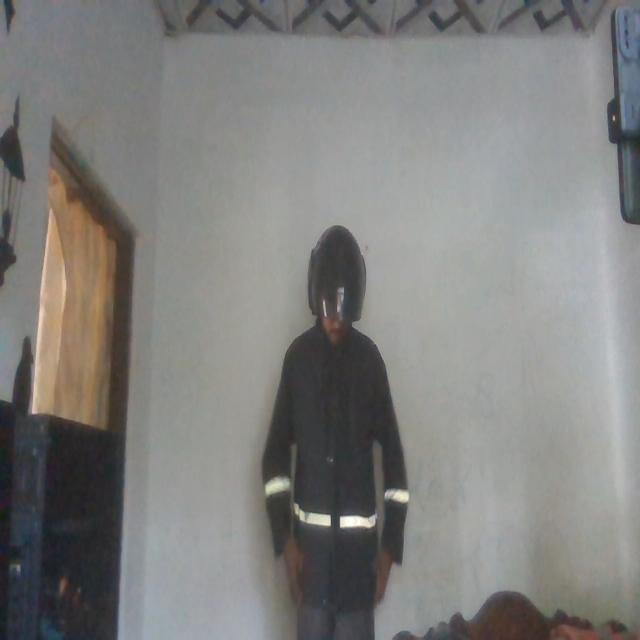Helmet_Wearer: (303, 225, 364, 342)
Jacket_Wearer: (262, 317, 410, 587)
Person: (254, 232, 408, 640)
